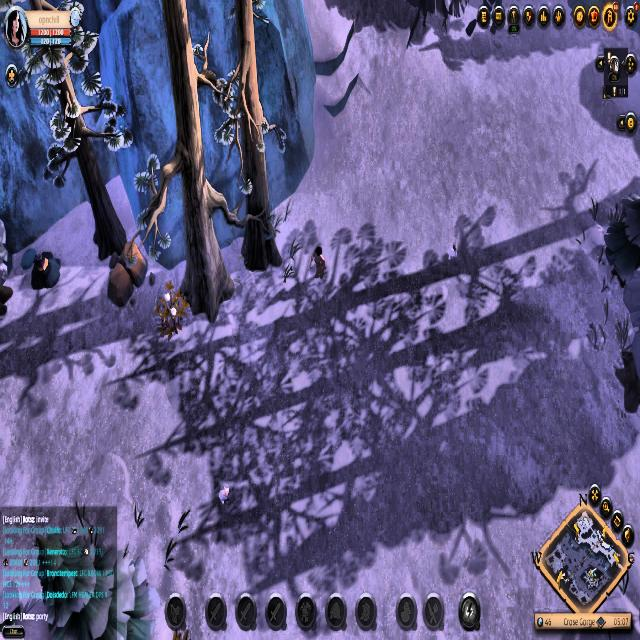copper_ore: (25, 247, 68, 296)
cotton: (153, 286, 198, 334)
limestone: (104, 238, 148, 316)
